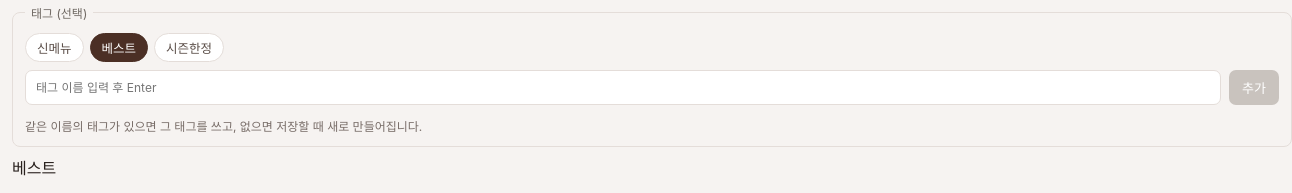
Test: TagPicker › 걸러도 이미 고른 기존 태그는 계속 보인다
This screenshot has width=1292, height=193.
Type "시즌" into the field labelled "태그 이름 입력" at (623, 88), box x1=25 y1=70 x2=1221 y2=105
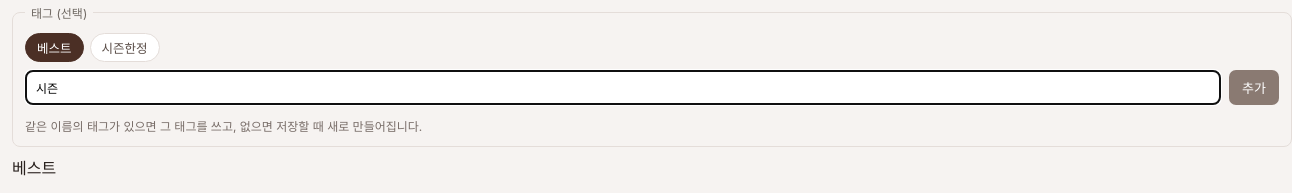
Expected: the button "시즌한정" is shown, x1=90 y1=33 x2=160 y2=62
Result: the button "신메뉴" is gone
